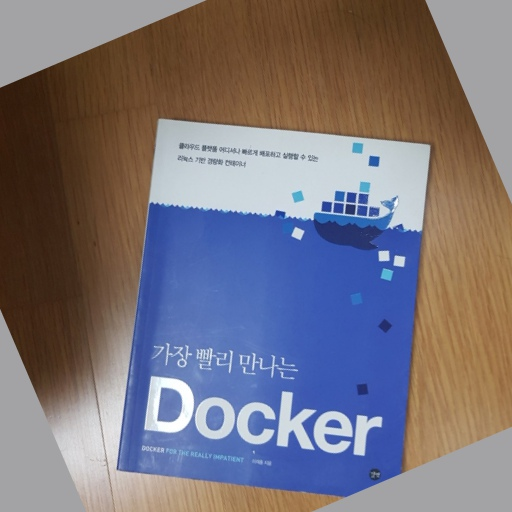Paper_0: (112, 107, 439, 500)
